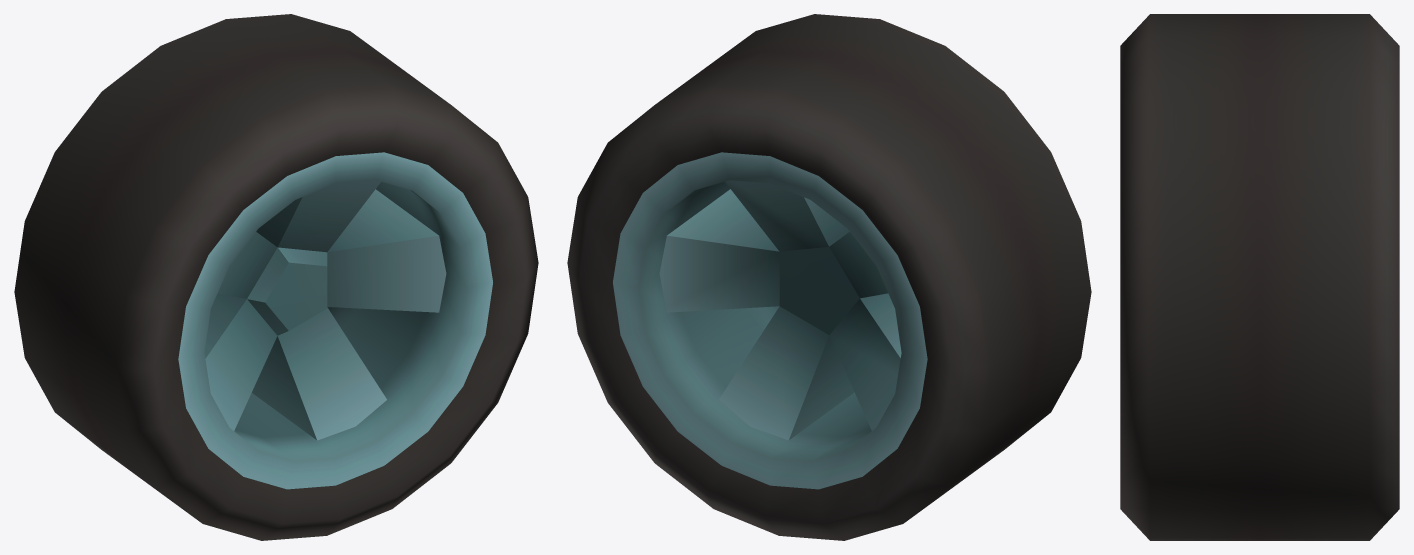
Rendered from wheel.fbx.
The picture shows the model from 3 angles, left to right: view 1: azimuth 30°, elevation 25°; view 2: azimuth 150°, elevation 25°; view 3: azimuth 270°, elevation 25°; orthographic projection. The views are drawn at different scales.
Parts seen in each view (by area): view 1: wheel; view 2: wheel; view 3: wheel.
Part boxes in pixels (x1=…): wheel: x1=14, y1=14, x2=538, y2=540; wheel: x1=567, y1=14, x2=1091, y2=540; wheel: x1=1120, y1=14, x2=1399, y2=540.
Bounding box in the file's own units: 20.55 × 20.55 × 10.8.
